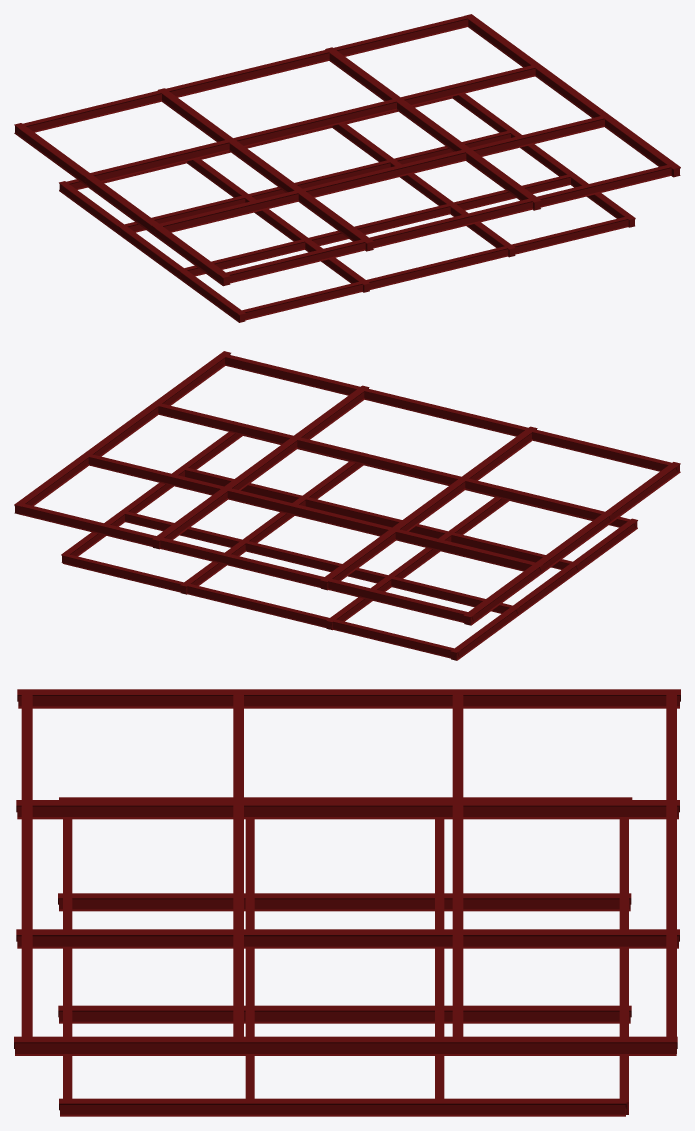
File: vigas.obj
3 renders of one model, top to bottom at view 1: azimuth 30°, elevation 25°; view 2: azimuth 150°, elevation 25°; view 3: azimuth 270°, elevation 25°, orthographic. The views are drawn at different scales.
Visible parts, largest first — view 1: polySurface55, polySurface81; view 2: polySurface55, polySurface81; view 3: polySurface55, polySurface81.
Boxes of the visible parts, x1,y1,x2,y2 form: polySurface55: (14, 14, 680, 286); polySurface81: (59, 93, 635, 322); polySurface55: (14, 351, 680, 625); polySurface81: (61, 432, 637, 660); polySurface55: (14, 689, 680, 1055); polySurface81: (58, 797, 632, 1116).
Size of the model in its own units: 77.4 by 10.05 by 61.79.
Materials: 1 (1 with a texture image).
